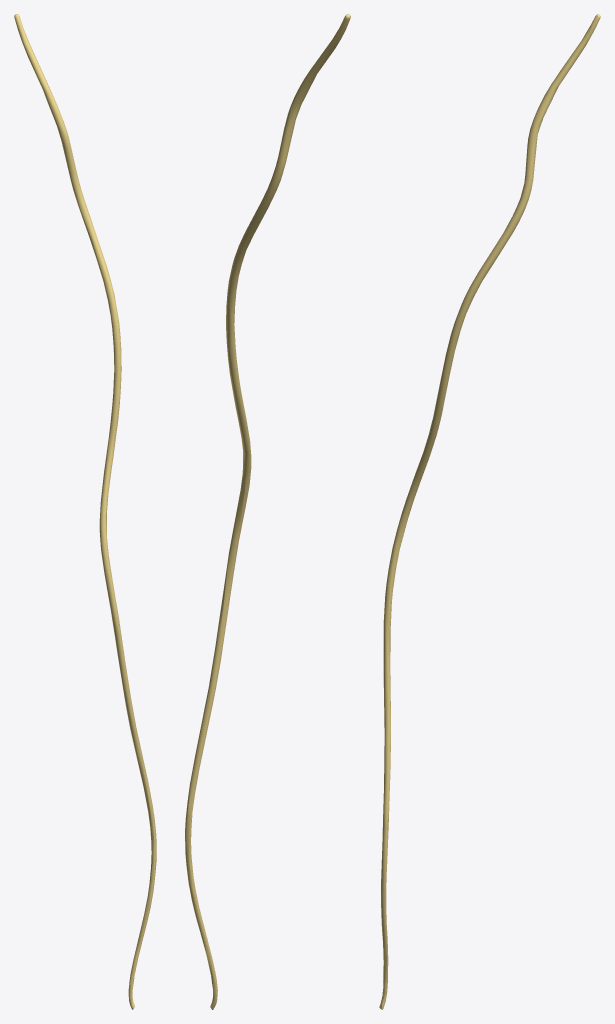
Rendered from fma65387_fj4157.glb.
3 views of the same model, side by side, from view 1: azimuth 30°, elevation 25°; view 2: azimuth 210°, elevation 25°; view 3: azimuth 270°, elevation 25° (orthographic). The views are drawn at different scales.
Visible parts, largest first — view 1: FMA65387_FJ4157; view 2: FMA65387_FJ4157; view 3: FMA65387_FJ4157.
Part boxes in pixels (<box>): FMA65387_FJ4157: <box>14,14,156,1009</box>; FMA65387_FJ4157: <box>185,14,350,1009</box>; FMA65387_FJ4157: <box>379,14,600,1009</box>.
Bounding box in the file's own units: 0.0123 × 0.2406 × 0.0489.
